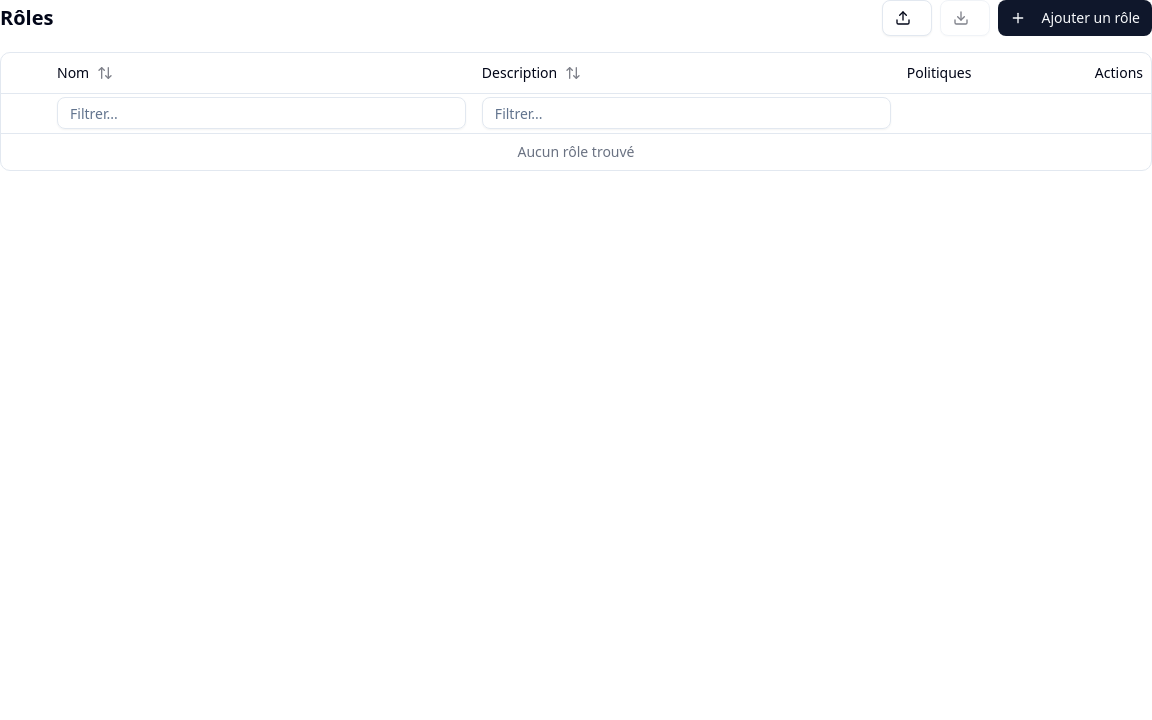
Scenario: Roles Component › Role CRUD Operations › should cancel role dialog
Click the button with test id "roles-add-button": (1075, 18) [998,0,1151,36]
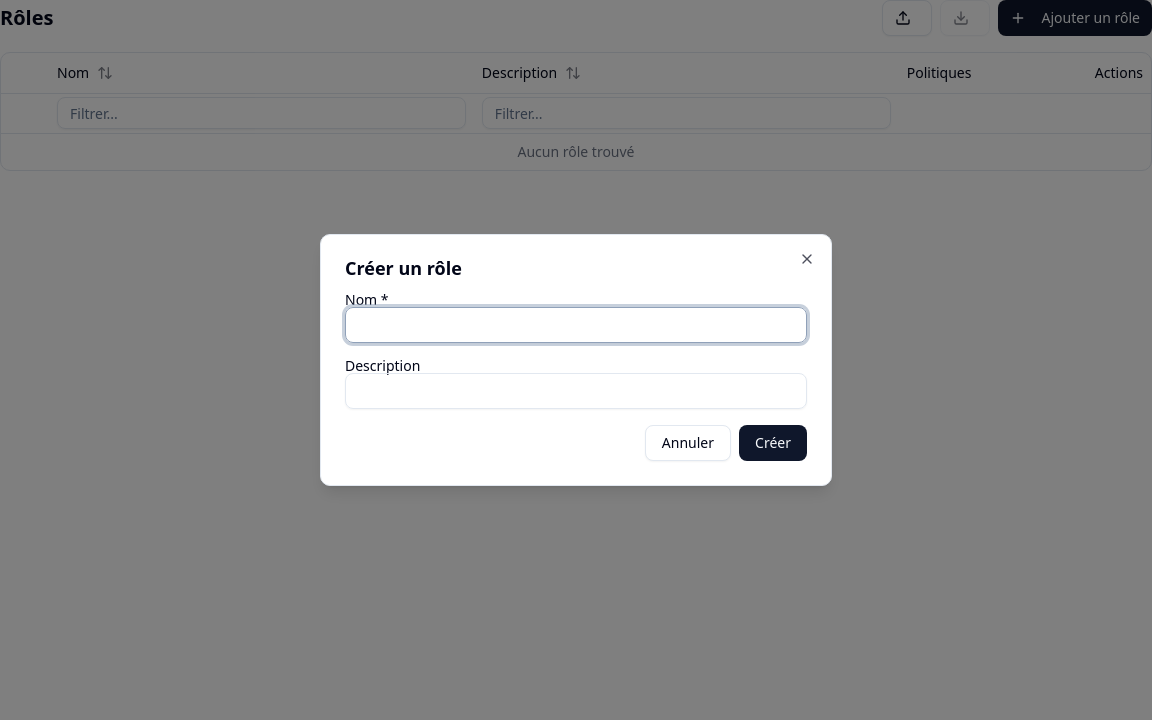
Check: the dialog with test id "role-dialog" is shown, box [320,234,832,486]
Click the button with test id "role-cancel-button": (688, 443) [645,425,731,461]
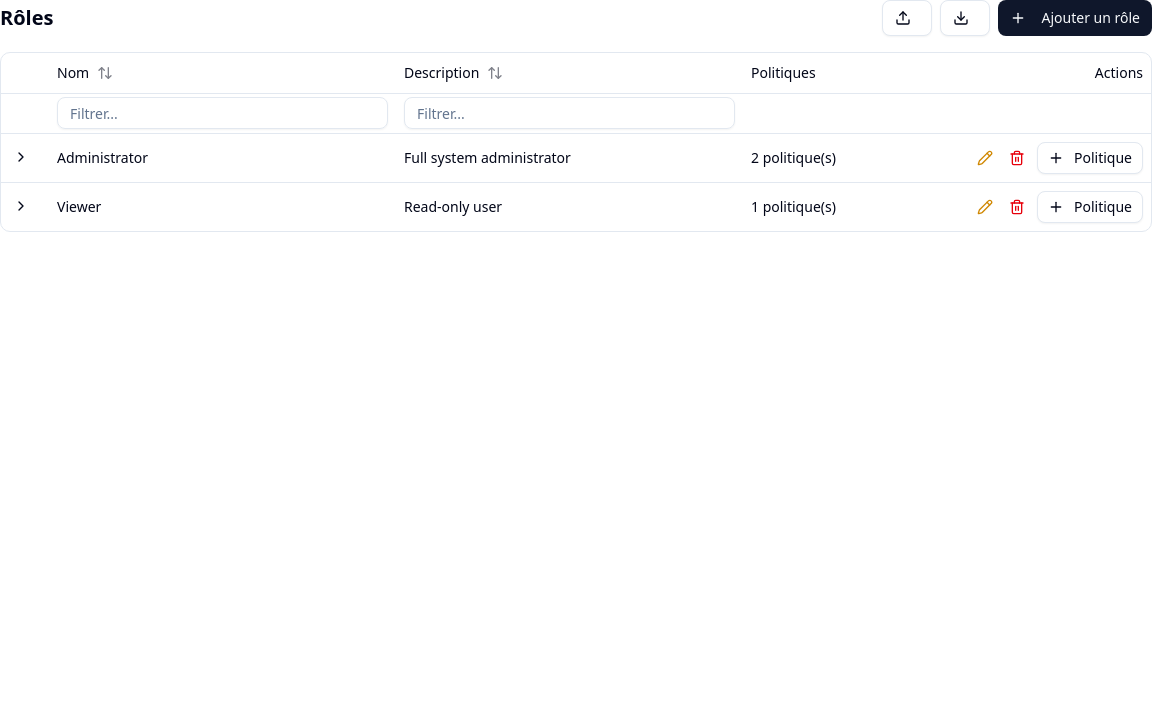
Check: the heading with test id "role-dialog-title" is gone
